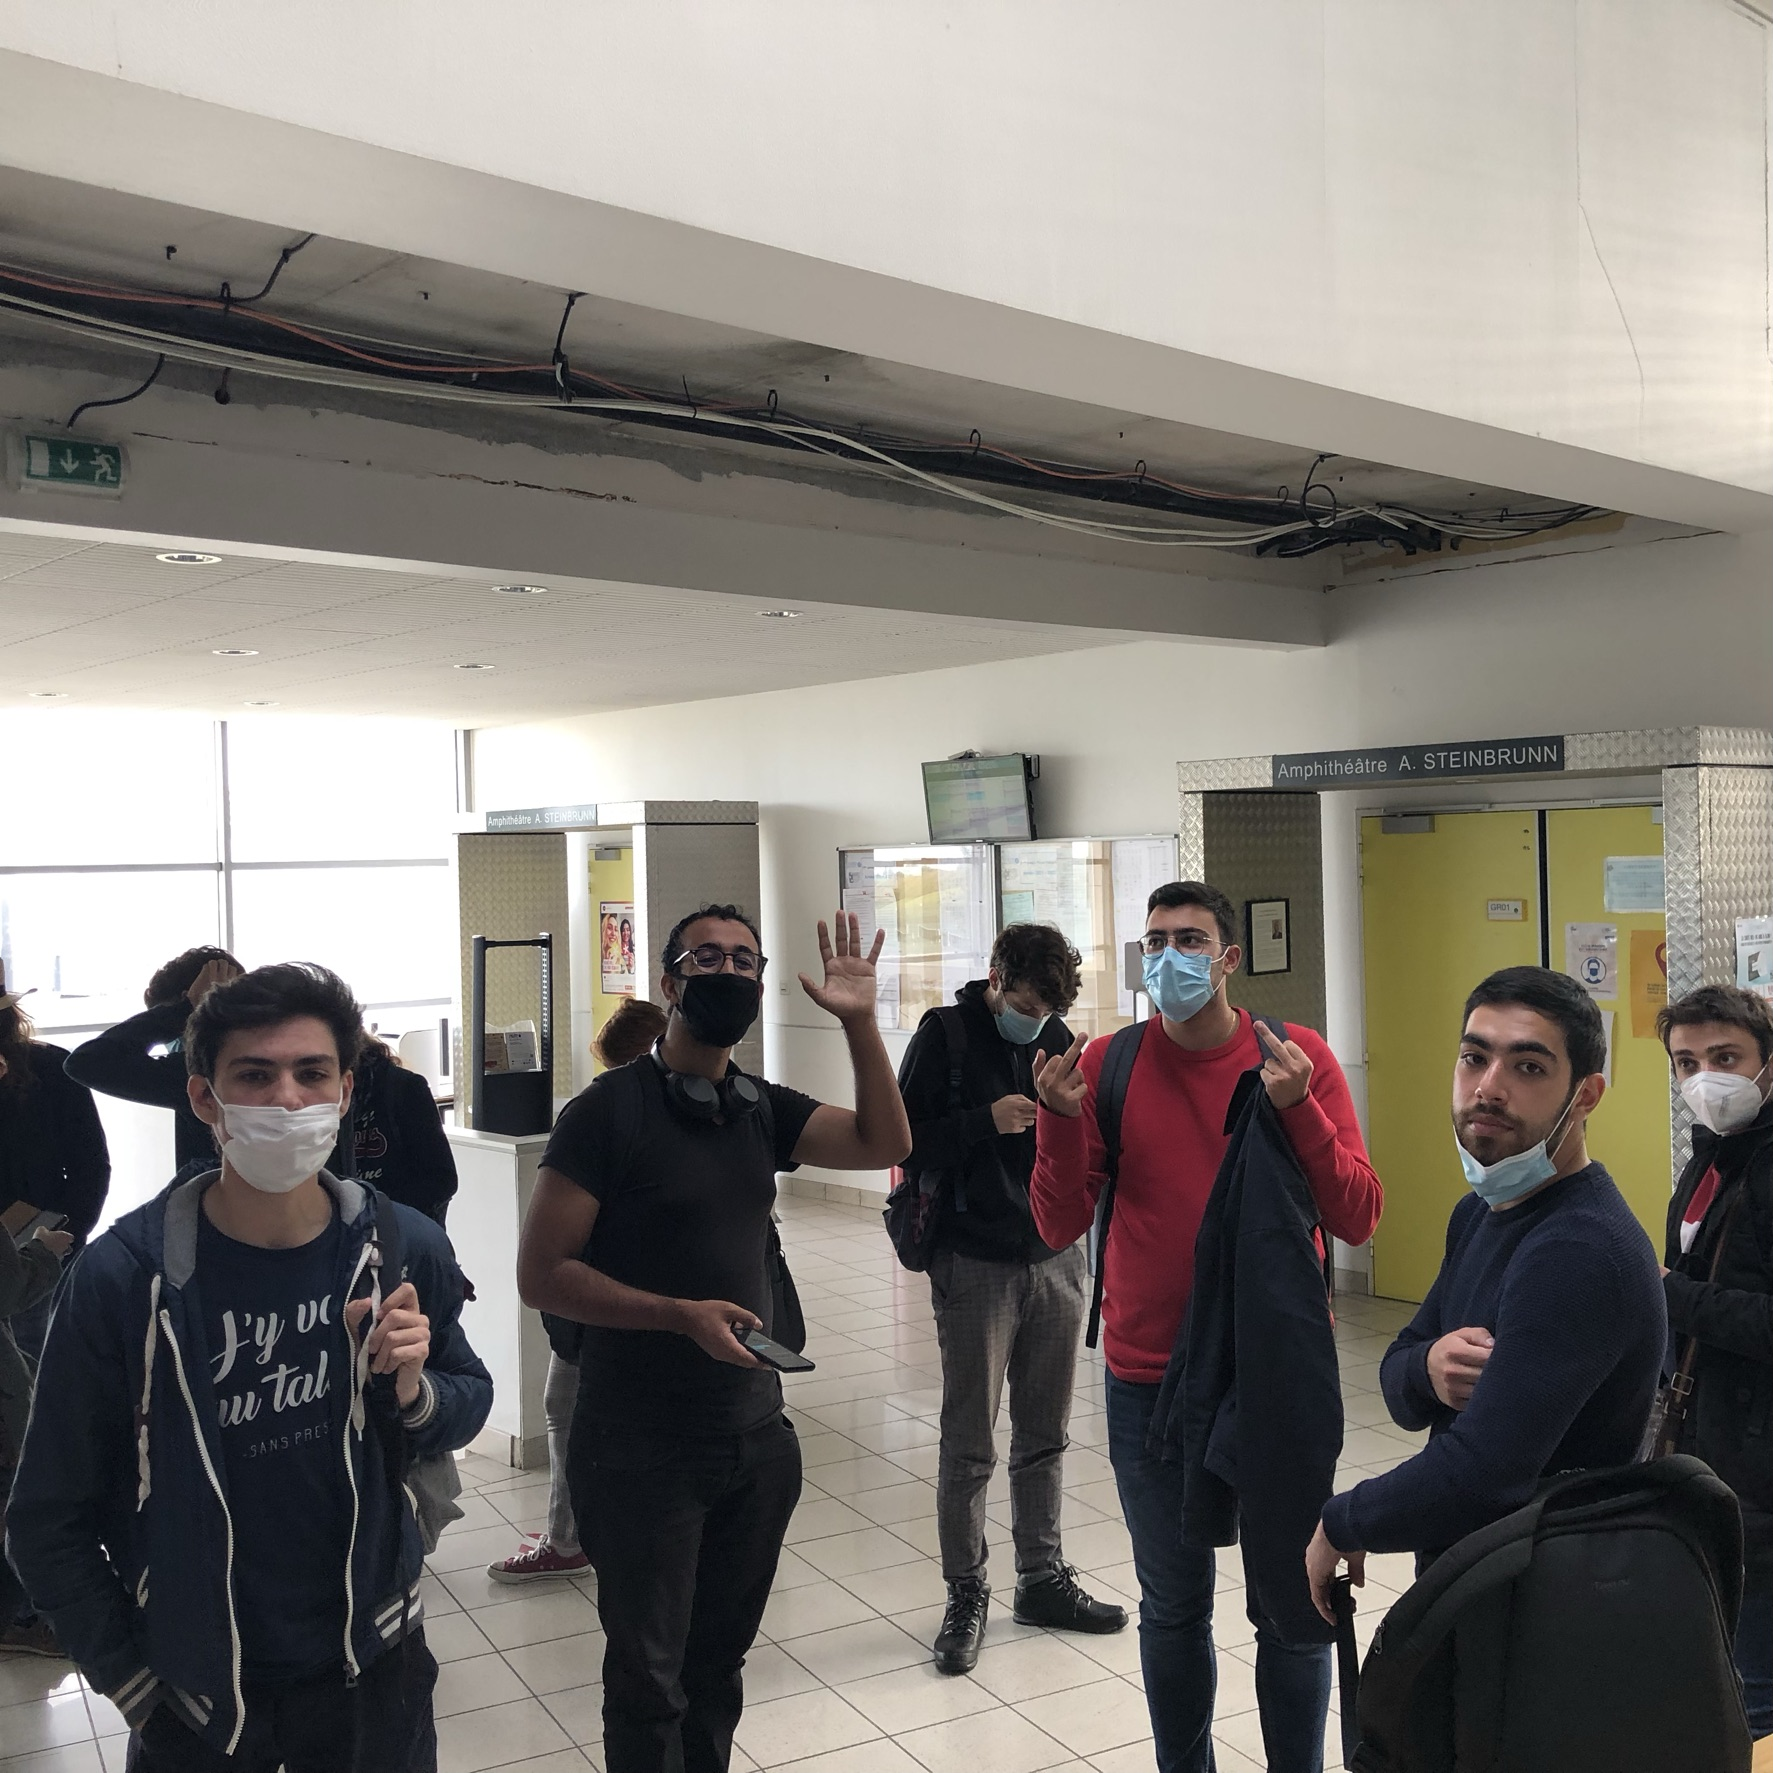with_incorrect_mask: (1451, 1013, 1561, 1205), (213, 1035, 337, 1186)
with_mask: (1669, 1027, 1772, 1140), (683, 924, 756, 1040), (1142, 911, 1213, 1021), (983, 970, 1059, 1040)
